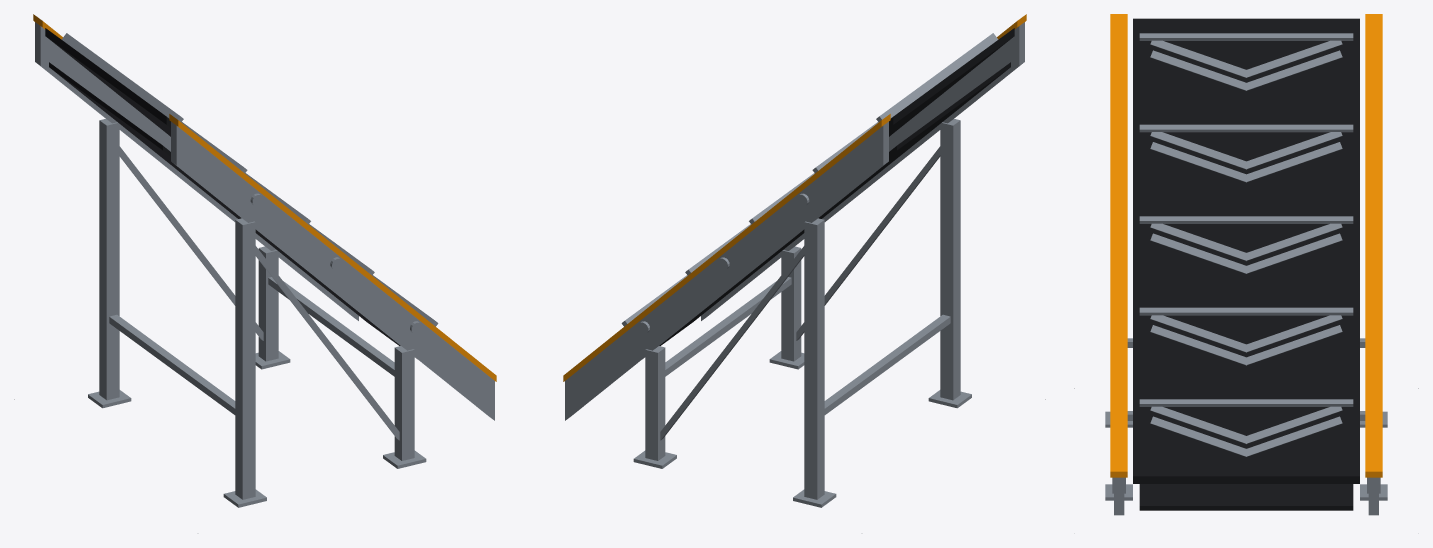
The model's file is convoyeur_rampe_descente_t2.glb.
The picture shows the model from 3 angles, left to right: view 1: azimuth 30°, elevation 25°; view 2: azimuth 150°, elevation 25°; view 3: azimuth 270°, elevation 25°; orthographic projection. The views are drawn at different scales.
Visible parts, largest first — view 1: pieces_acier.048, longeron_-1.024, longeron_1.024, rive_-1.024, bande_acier.042, bande_retour.024, bande_porteuse.024; view 2: pieces_acier.048, longeron_1.024, longeron_-1.024, rive_1.024, bande_acier.042, bande_retour.024, bande_porteuse.024; view 3: bande_porteuse.024, bande_acier.042, rive_1.024, rive_-1.024, bande_retour.024, pieces_acier.048, longeron_1.024, longeron_-1.024.
Part boxes in pixels (x1,y1,x2,y2): pieces_acier.048: (88,119,426,507); longeron_-1.024: (171,121,494,420); longeron_1.024: (35,22,358,320); rive_-1.024: (169,114,496,381); bande_acier.042: (61,33,438,326); bande_retour.024: (49,62,416,358); bande_porteuse.024: (45,28,170,136); pieces_acier.048: (633,119,971,507); longeron_1.024: (565,121,888,420); longeron_-1.024: (701,22,1024,320); rive_1.024: (563,114,890,381); bande_acier.042: (621,33,998,326); bande_retour.024: (643,62,1010,358); bande_porteuse.024: (889,28,1014,136); bande_porteuse.024: (1133,18,1359,483); bande_acier.042: (1139,33,1353,456); rive_1.024: (1365,14,1382,477); rive_-1.024: (1110,14,1127,477); bande_retour.024: (1139,484,1353,510); pieces_acier.048: (1105,338,1387,500); longeron_1.024: (1368,477,1378,515); longeron_-1.024: (1114,477,1124,515).
Bounding box in the file's own units: 1 × 1.2 × 1.
